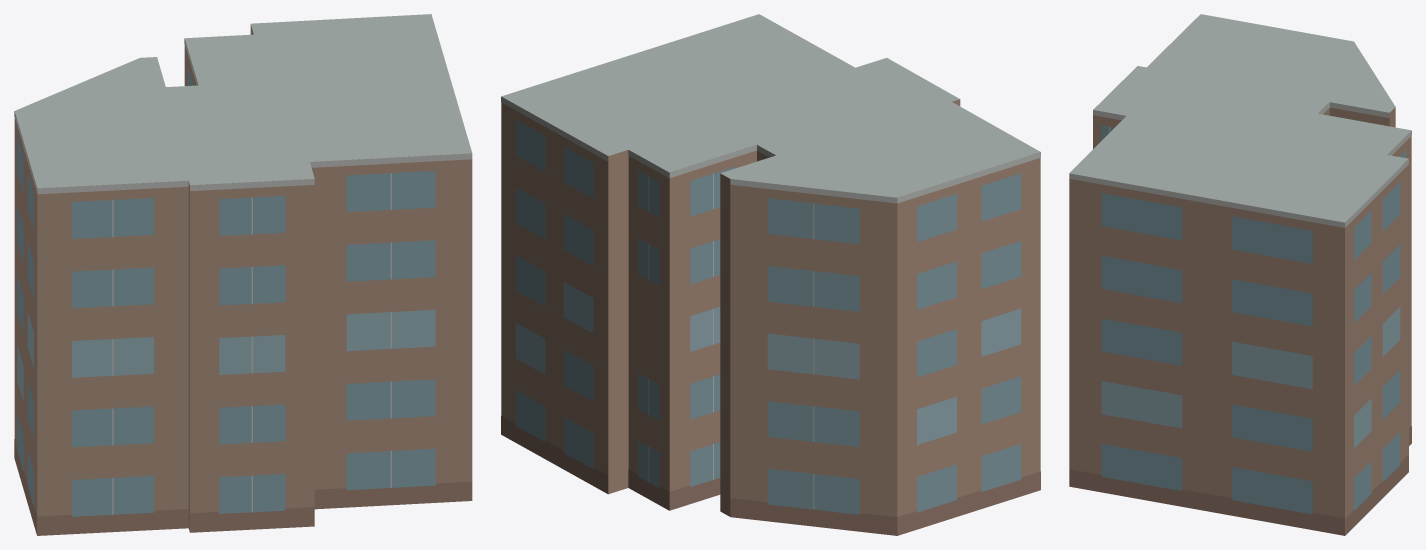
File: survey-upis-32561273.glb
3 renders of one model, left to right at view 1: azimuth 30°, elevation 25°; view 2: azimuth 150°, elevation 25°; view 3: azimuth 270°, elevation 25°, orthographic. The views are drawn at different scales.
Parts seen in each view (by area): view 1: survey-upis-32561273.tmp; view 2: survey-upis-32561273.tmp; view 3: survey-upis-32561273.tmp.
Boxes of the visible parts, box(x1,y1,x2,y2) form: survey-upis-32561273.tmp: box(14, 14, 472, 535); survey-upis-32561273.tmp: box(501, 14, 1040, 535); survey-upis-32561273.tmp: box(1069, 14, 1411, 535).
Bounding box in the file's own units: 20.44 × 14.3 × 14.18.
